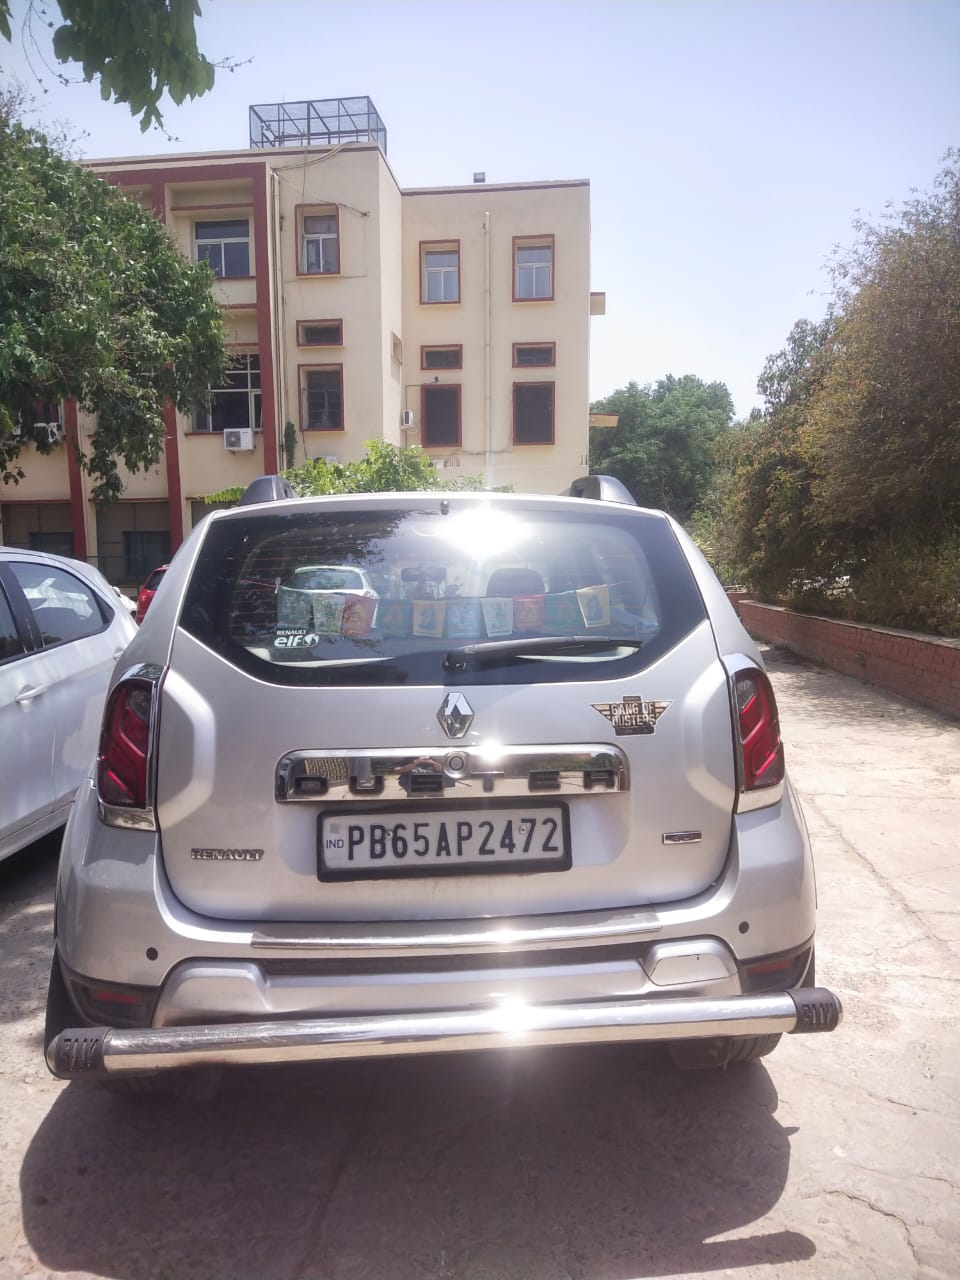license plate: (319, 805, 570, 879)
